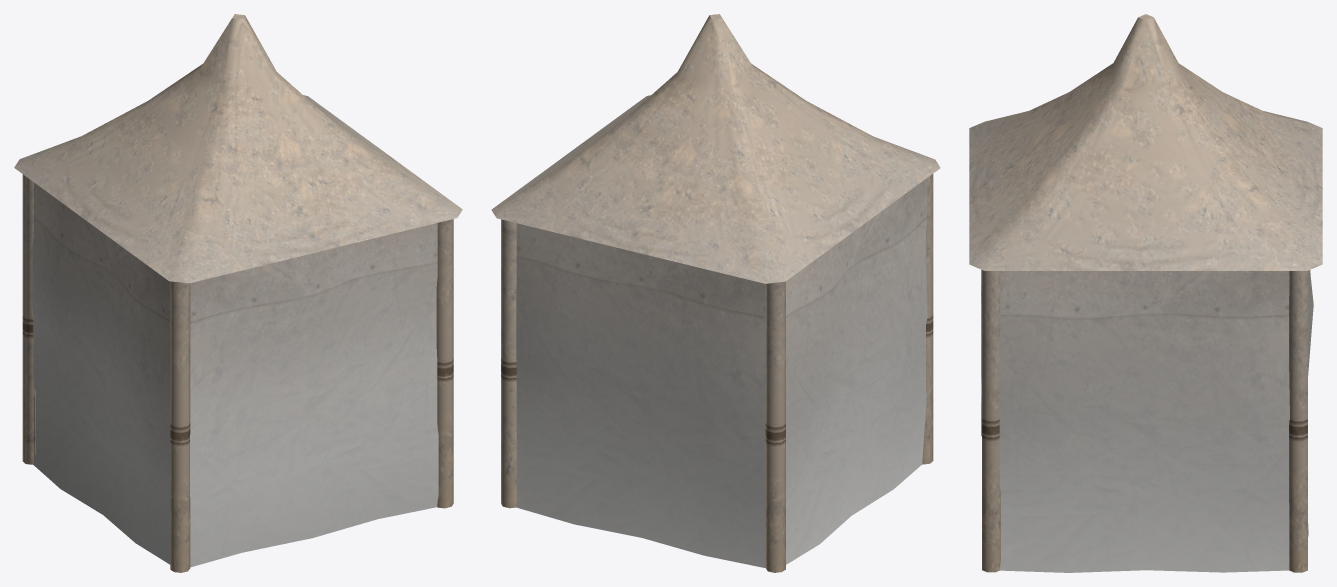
Rendered from tent_small.FBX.
The picture shows the model from 3 angles, left to right: view 1: azimuth 30°, elevation 25°; view 2: azimuth 150°, elevation 25°; view 3: azimuth 270°, elevation 25°; orthographic projection. The views are drawn at different scales.
Visible parts, largest first — view 1: camp_small; view 2: camp_small; view 3: camp_small.
Part boxes in pixels (x1,y1,x2,y2): camp_small: (14, 14, 462, 572); camp_small: (491, 14, 940, 572); camp_small: (969, 14, 1322, 572).
Bounding box in the file's own units: 337 × 508 × 336.
1 material, 1 textured.
